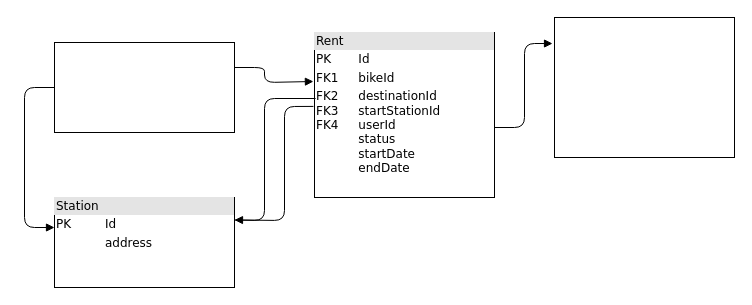
This 752x305 diagram has some shape labels left out. The shapes that lost their labels are listed below. From the top down, each one's centre as x and y in pixels, then its label:
the point at 144,87: Bike PK Id FK1 stationId
the point at 644,87: User PK Id name nif contact login password
